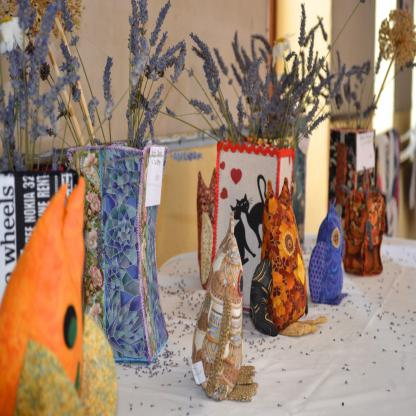vase: (66, 139, 168, 362), (214, 136, 296, 316), (327, 123, 375, 228)
